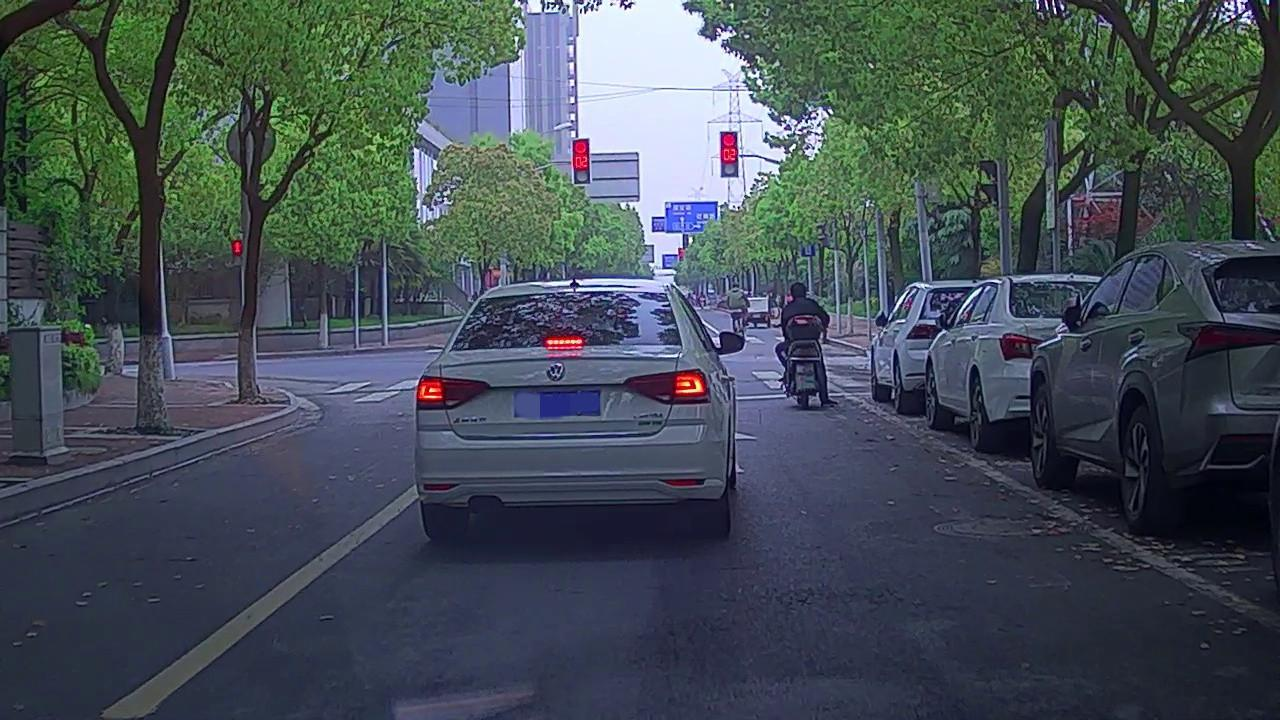traffic_light: (571, 140, 590, 184), (722, 130, 738, 177)
